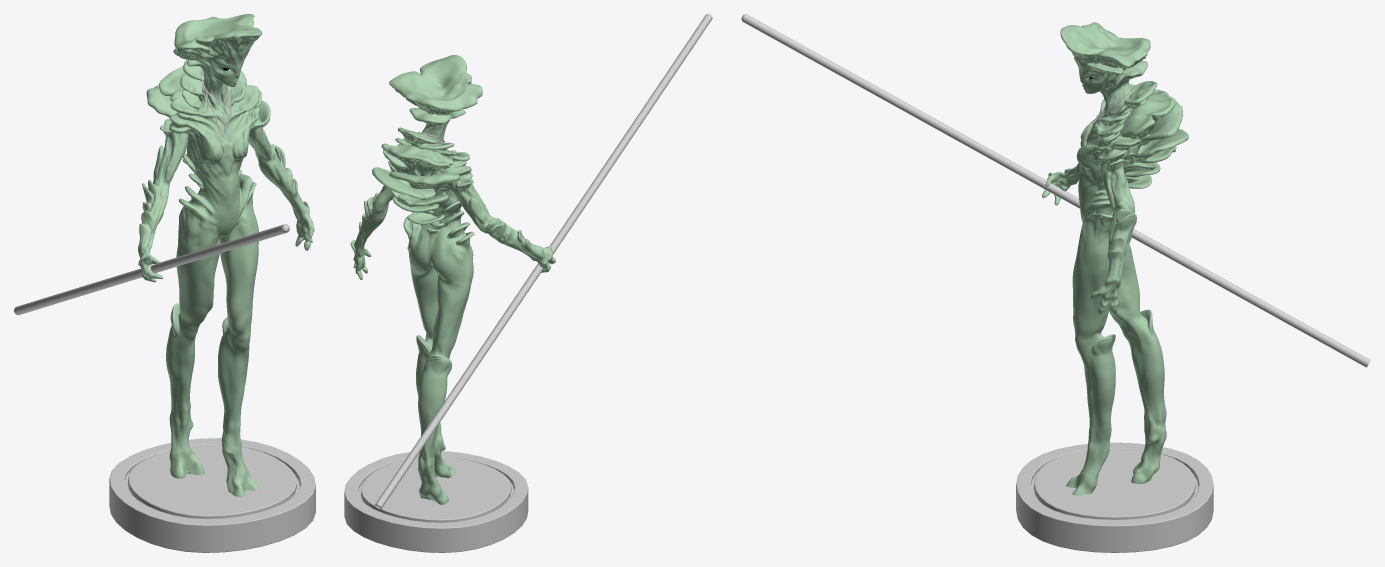
The model's file is AlienPosed.fbx.
The picture shows the model from 3 angles, left to right: view 1: azimuth 30°, elevation 25°; view 2: azimuth 150°, elevation 25°; view 3: azimuth 270°, elevation 25°; orthographic projection. The views are drawn at different scales.
Visible parts, largest first — view 1: AlienPosed, Pedestal, Staff; view 2: AlienPosed, Pedestal, Staff; view 3: AlienPosed, Pedestal, Staff.
Boxes of the visible parts, x1,y1,x2,y2 form: AlienPosed: (138, 14, 314, 497); Pedestal: (109, 438, 315, 552); Staff: (14, 224, 289, 315); AlienPosed: (350, 55, 555, 504); Pedestal: (344, 451, 528, 552); Staff: (375, 14, 712, 508); AlienPosed: (1042, 22, 1188, 495); Pedestal: (1016, 442, 1213, 552); Staff: (741, 14, 1370, 367).
Bounding box in the file's own units: 2.78 × 6.1 × 7.19.
